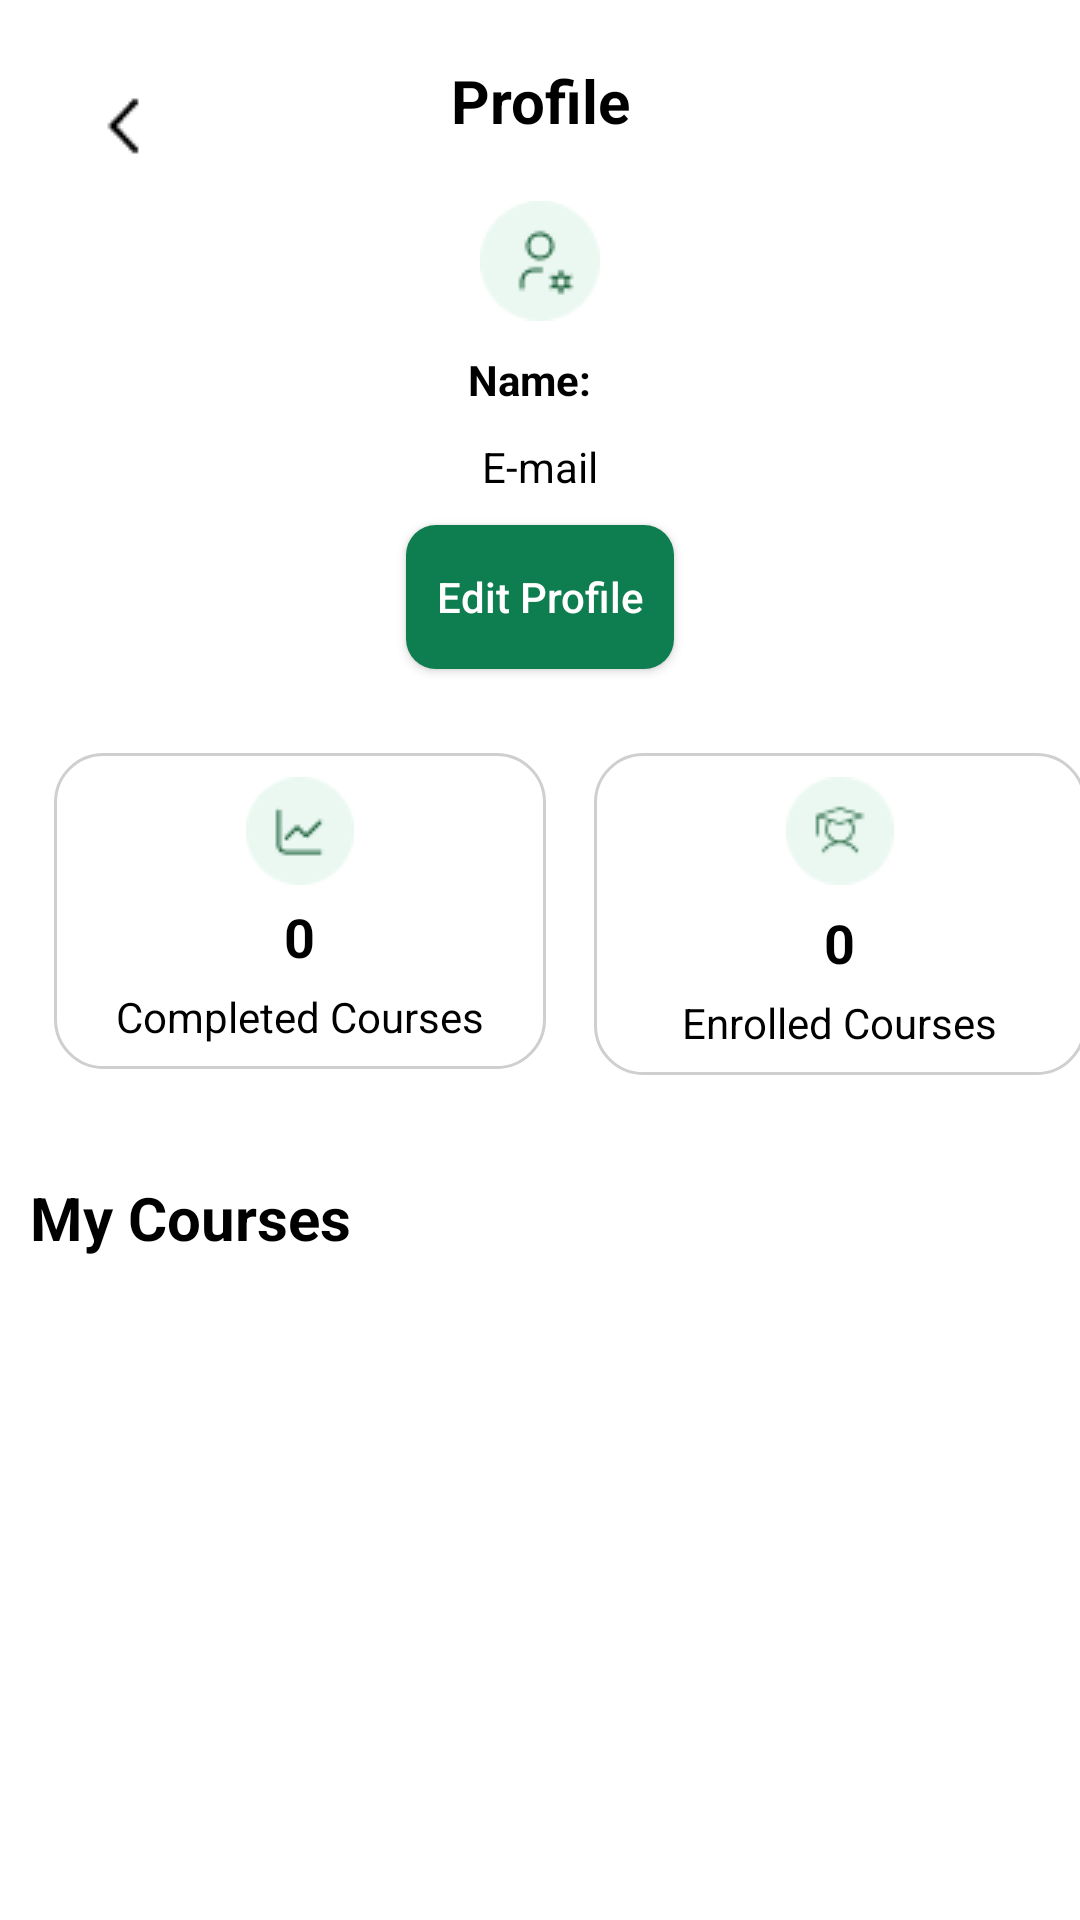

Icon bounding boxes for this 1080*1920 phone screenshot, format (x1, y1, x2, y2):
arrow_left icon: (107, 98, 139, 154)
course level: (246, 777, 354, 885)
student: (815, 806, 865, 856)
